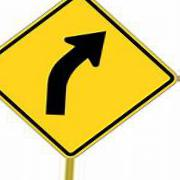right: (2, 1, 176, 158)
